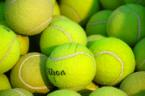tennis ball: (45, 42, 97, 89), (89, 37, 136, 85), (39, 17, 88, 61), (9, 51, 57, 93), (3, 1, 54, 36), (106, 2, 145, 46), (59, 1, 101, 26), (121, 70, 145, 95)
